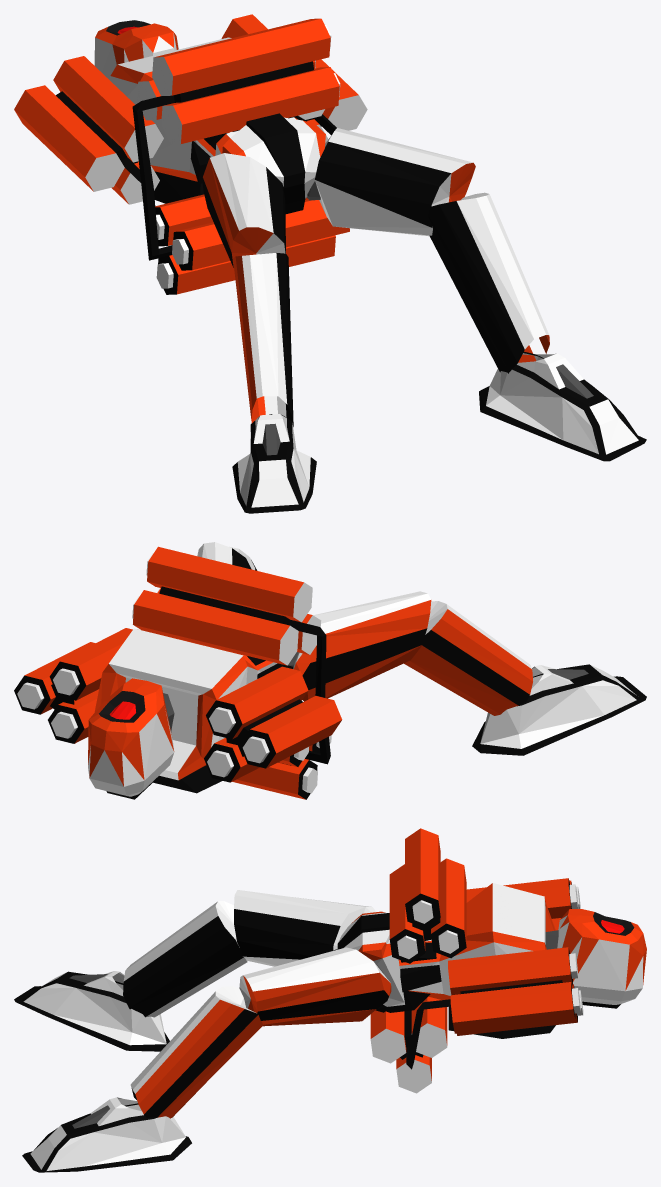
Rendered from robots_000005.obj.
3 renders of one model, top to bottom at view 1: azimuth 30°, elevation 25°; view 2: azimuth 150°, elevation 25°; view 3: azimuth 270°, elevation 25°, orthographic. The views are drawn at different scales.
Parts seen in each view (by area): view 1: Cylinder.004_Cylinder.006, R_Thigh.002_Cube.027, R_Shin.002_Cube.029, R_Foot.002_Cube.035, R_Shin_Cube.007, R_Thigh_Cube.005, R_Foot_Cube, Pelvis_Cube.006, Chest_plate_Cube.004, Head_base.002_Cube.030; view 2: Cylinder.004_Cylinder.006, Chest_plate_Cube.004, R_Foot_Cube, R_Thigh_Cube.005, Head_base.002_Cube.030, R_Shin_Cube.007, R_Thigh.002_Cube.027; view 3: Cylinder.004_Cylinder.006, R_Thigh.002_Cube.027, R_Shin.002_Cube.029, Chest_plate_Cube.004, R_Foot.002_Cube.035, R_Shin_Cube.007, R_Thigh_Cube.005, R_Foot_Cube, Head_base.002_Cube.030, Pelvis_Cube.006.
Part boxes in pixels (x1,y1,x2,y2): Cylinder.004_Cylinder.006: (14, 14, 367, 294); R_Thigh.002_Cube.027: (314, 128, 475, 236); R_Shin.002_Cube.029: (428, 192, 549, 373); R_Foot.002_Cube.035: (479, 351, 646, 461); R_Shin_Cube.007: (233, 253, 293, 426); R_Thigh_Cube.005: (202, 153, 285, 268); R_Foot_Cube: (232, 414, 316, 513); Pelvis_Cube.006: (215, 113, 325, 213); Chest_plate_Cube.004: (109, 37, 306, 203); Head_base.002_Cube.030: (94, 20, 178, 79); Cylinder.004_Cylinder.006: (14, 546, 342, 799); Chest_plate_Cube.004: (94, 628, 293, 793); R_Foot_Cube: (472, 664, 646, 755); R_Thigh_Cube.005: (293, 591, 431, 701); Head_base.002_Cube.030: (88, 678, 174, 799); R_Shin_Cube.007: (404, 601, 532, 715); R_Thigh.002_Cube.027: (197, 542, 251, 569); Cylinder.004_Cylinder.006: (370, 828, 583, 1093); R_Thigh.002_Cube.027: (239, 947, 391, 1026); R_Shin.002_Cube.029: (130, 986, 263, 1118); Chest_plate_Cube.004: (399, 883, 555, 1038); R_Foot.002_Cube.035: (22, 1097, 191, 1172); R_Shin_Cube.007: (123, 901, 248, 1017); R_Thigh_Cube.005: (234, 890, 375, 966); R_Foot_Cube: (14, 971, 169, 1051); Head_base.002_Cube.030: (557, 909, 646, 1008); Pelvis_Cube.006: (337, 911, 430, 1012).
Size of the model in its own units: 1.96 by 1.32 by 3.16.
